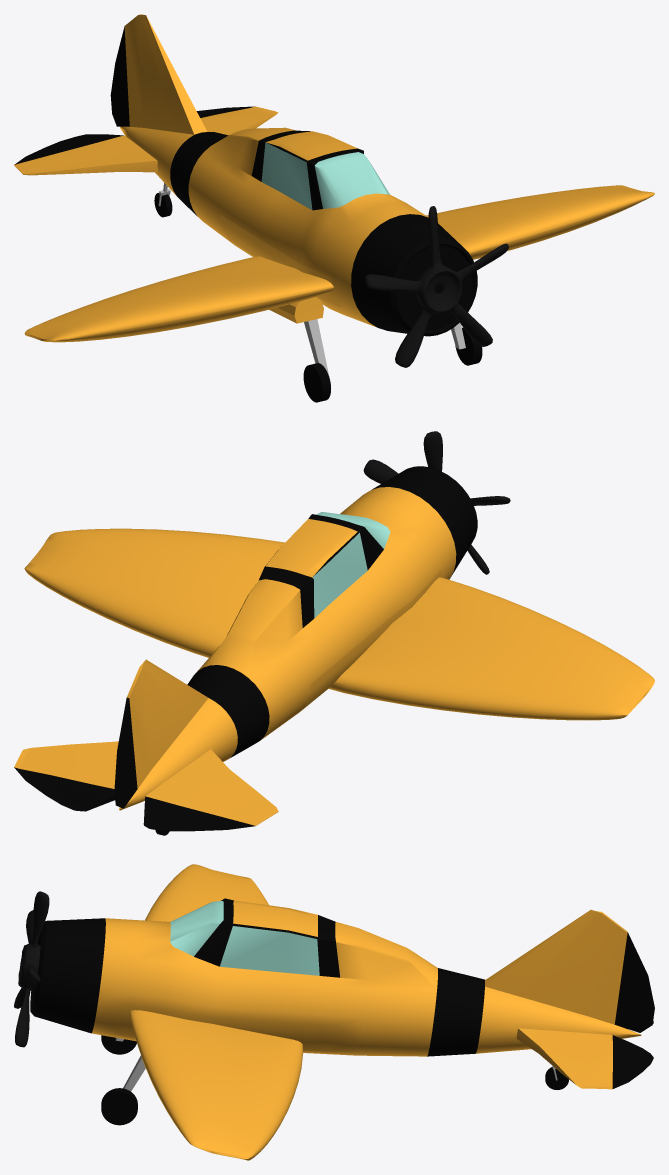
The picture shows the model from 3 angles, top to bottom: view 1: azimuth 30°, elevation 25°; view 2: azimuth 150°, elevation 25°; view 3: azimuth 270°, elevation 25°; orthographic projection. The views are drawn at different scales.
Parts seen in each view (by area): view 1: Plane, Propeller; view 2: Plane, Propeller; view 3: Plane, Propeller.
Boxes of the visible parts, x1,y1,x2,y2 form: Plane: (14,14,654,402); Propeller: (364,206,508,367); Plane: (14,466,654,835); Propeller: (363,431,510,574); Plane: (30,864,654,1160); Propeller: (14,891,49,1047).
Bounding box in the file's own units: 1417 × 459 × 1359.
